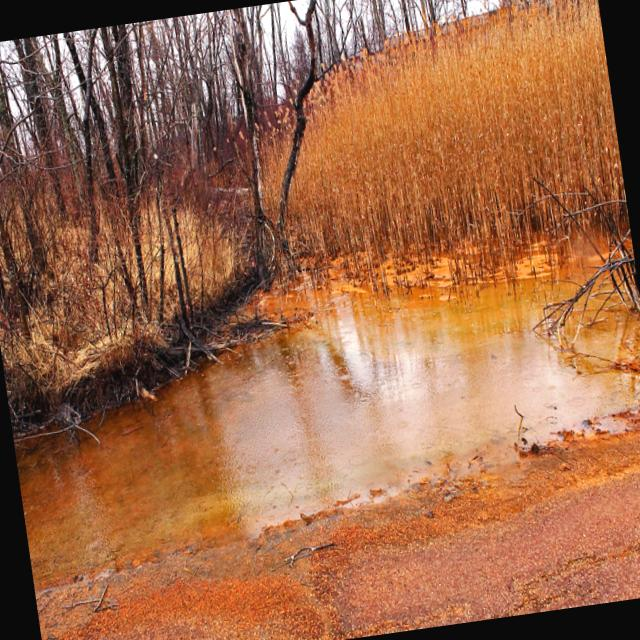yellow_boy: (15, 280, 640, 584)
